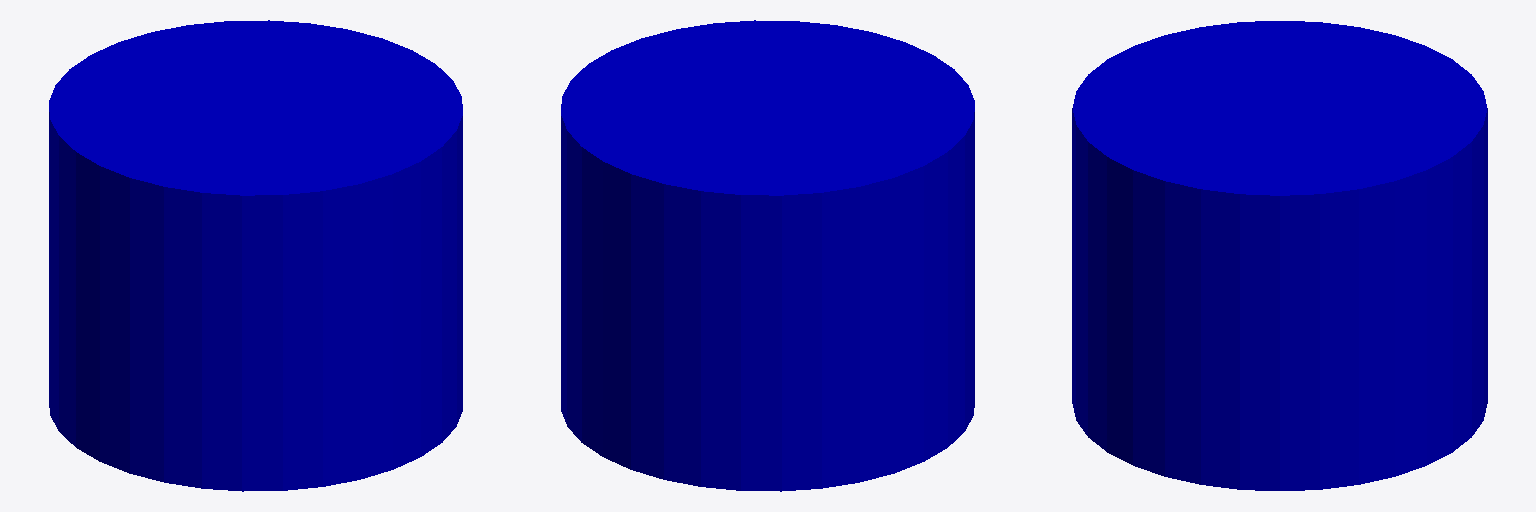
The robot description file, URDF, robot "schunk_lwa4p":
<?xml version="1.0" ?>
<!-- =================================================================================== -->
<!-- |    This document was autogenerated by xacro from schunk.xacro                   | -->
<!-- |    EDITING THIS FILE BY HAND IS NOT RECOMMENDED                                 | -->
<!-- =================================================================================== -->
<robot name="schunk_lwa4p">
  <material name="LightGrey">
    <color rgba="0.7 0.7 0.7 1.0"/>
  </material>
  <material name="DarkGrey">
    <color rgba="0.4 0.4 0.4 1.0"/>
  </material>
  <material name="Black">
    <color rgba="0.0 0.0 0.0 1.0"/>
  </material>
  <material name="DarkGolden">
    <color rgba="0.4 0.4 0.3 1.0"/>
  </material>
  <material name="Blue">
    <color rgba="0.0 0.0 0.8 1.0"/>
  </material>
  <link name="world"/>
  <!-- joint between base_link and lwa4p_extended_connector_link -->
  <joint name="arm_podest_joint" type="fixed">
    <origin rpy="0 0 0" xyz="0 0 0.052"/>
    <parent link="world"/>
    <child link="arm_podest_link"/>
  </joint>
  <link name="arm_podest_link">
    <inertial>
      <mass value="0.01"/>
      <origin xyz="0 0 0"/>
      <inertia ixx="0.001" ixy="0.0" ixz="0.0" iyy="0.001" iyz="0.0" izz="0.001"/>
    </inertial>
    <visual>
      <origin rpy="0 3.141592653589793 0" xyz="0 0 0"/>
      <geometry>
        <mesh filename="package://schunk/meshes/arm_base_link.stl"/>
      </geometry>
    </visual>
    <collision>
      <origin rpy="0 3.141592653589793 0" xyz="0 0 0"/>
      <geometry>
        <mesh filename="package://schunk/meshes/arm_base_link.stl"/>
      </geometry>
    </collision>
  </link>
  <joint name="arm_base_joint" type="fixed">
    <origin rpy="0 0 0" xyz="0 0 0.10"/>
    <parent link="arm_podest_link"/>
    <child link="arm_base_link"/>
  </joint>
  <link name="arm_base_link">
    <inertial>
      <mass value="0.01"/>
      <origin xyz="0 0 0"/>
      <inertia ixx="0.001" ixy="0.0" ixz="0.0" iyy="0.001" iyz="0.0" izz="0.001"/>
    </inertial>
  </link>
  <!-- joint between arm_0_link and arm_1_link -->
  <joint name="arm_1_joint" type="revolute">
    <origin rpy="0 0 3.141592653589793" xyz="0 0 0"/>
    <parent link="arm_base_link"/>
    <child link="arm_1_link"/>
    <axis xyz="0 0 1"/>
    <limit effort="370" lower="-2.947" upper="2.947" velocity="1.26"/>
    <!--safety_controller k_position="20" k_velocity="50" soft_lower_limit="${-6.28 + 0.01}" soft_upper_limit="${6.28 - 0.01}" /-->
  </joint>
  <link name="arm_1_link">
    <!--<xacro:default_inertial/>-->
    <inertial>
      <origin rpy="0 0 0" xyz="0 0 0"/>
      <mass value="0.29364"/>
      <inertia ixx="0.01" ixy="0" ixz="0" iyy="0.01" iyz="0" izz="0.01"/>
    </inertial>
    <visual>
      <origin rpy="0 0 0" xyz="0 0 0"/>
      <geometry>
        <mesh filename="package://schunk/meshes/arm_1_link.stl"/>
      </geometry>
      <material name="Blue"/>
    </visual>
    <collision>
      <origin rpy="0 0 0" xyz="0 0 0"/>
      <geometry>
        <mesh filename="package://schunk/meshes/arm_1_link.stl"/>
      </geometry>
    </collision>
  </link>
  <!-- joint between arm_1_link and arm_2_link -->
  <joint name="arm_2_joint" type="revolute">
    <origin rpy="1.5708 0 0" xyz="0 0 0"/>
    <parent link="arm_1_link"/>
    <child link="arm_2_link"/>
    <axis xyz="0 0 1"/>
    <limit effort="370" lower="-2.947" upper="2.947" velocity="1.26"/>
    <!--safety_controller k_position="20" k_velocity="50" soft_lower_limit="${-2.09 + 0.01}" soft_upper_limit="${2.09 - 0.01}" /-->
  </joint>
  <link name="arm_2_link">
    <inertial>
      <origin rpy="0 0 0" xyz="0 0 0"/>
      <mass value="1.68311"/>
      <inertia ixx="0.03" ixy="0" ixz="0" iyy="0.03" iyz="0" izz="0.03"/>
    </inertial>
    <visual>
      <origin rpy="0 0 0" xyz="0 0 0"/>
      <geometry>
        <mesh filename="package://schunk/meshes/arm_2_link.stl"/>
      </geometry>
      <material name="LightGrey"/>
    </visual>
    <collision>
      <origin rpy="0 0 0" xyz="0 0 0"/>
      <geometry>
        <mesh filename="package://schunk/meshes/arm_2_link.stl"/>
      </geometry>
    </collision>
  </link>
  <!-- joint between arm_2_link and arm_3_link -->
  <joint name="arm_3_joint" type="revolute">
    <origin rpy="0 3.14159 0" xyz="0 0.350 0"/>
    <parent link="arm_2_link"/>
    <child link="arm_3_link"/>
    <axis xyz="0 0 1"/>
    <limit effort="176" lower="-2.694" upper="2.694" velocity="1.26"/>
    <!--safety_controller k_position="20" k_velocity="25" soft_lower_limit="${-6.28 + 0.01}" soft_upper_limit="${6.28 - 0.01}" /-->
  </joint>
  <link name="arm_3_link">
    <!--<xacro:default_inertial/>-->
    <inertial>
      <origin rpy="0 0 0" xyz="0 0 0"/>
      <mass value="2.1"/>
      <inertia ixx="0.03" ixy="0" ixz="0" iyy="0.03" iyz="0" izz="0.03"/>
    </inertial>
    <visual>
      <origin rpy="0 0 0" xyz="0 0 0"/>
      <geometry>
        <mesh filename="package://schunk/meshes/arm_3_link.stl"/>
      </geometry>
      <material name="Blue"/>
    </visual>
    <collision>
      <origin rpy="0 0 0" xyz="0 0 0"/>
      <geometry>
        <mesh filename="package://schunk/meshes/arm_3_link.stl"/>
      </geometry>
    </collision>
  </link>
  <!-- joint between arm_3_link and arm_4_link -->
  <joint name="arm_4_joint" type="revolute">
    <origin rpy="-1.5708 3.14159 0" xyz="0 0 0"/>
    <parent link="arm_3_link"/>
    <child link="arm_4_link"/>
    <axis xyz="0 0 1"/>
    <limit effort="176" lower="-2.947" upper="2.947" velocity="1.26"/>
    <!--safety_controller k_position="20" k_velocity="25" soft_lower_limit="${-2.09 + 0.01}" soft_upper_limit="${2.09 - 0.01}" /-->
  </joint>
  <link name="arm_4_link">
    <!--<xacro:default_inertial/>-->
    <inertial>
      <origin rpy="0 0 0" xyz="0 0 0"/>
      <mass value="1.68311"/>
      <inertia ixx="0.03" ixy="0" ixz="0" iyy="0.03" iyz="0" izz="0.03"/>
    </inertial>
    <visual>
      <origin rpy="0 0 0" xyz="0 0 0"/>
      <geometry>
        <mesh filename="package://schunk/meshes/arm_4_link.stl"/>
      </geometry>
      <material name="LightGrey"/>
    </visual>
    <collision>
      <origin rpy="0 0 0" xyz="0 0 0"/>
      <geometry>
        <mesh filename="package://schunk/meshes/arm_4_link.stl"/>
      </geometry>
    </collision>
  </link>
  <!-- joint between arm_4_link and arm_5_link -->
  <joint name="arm_5_joint" type="revolute">
    <origin rpy="1.5708 0 3.14159" xyz="0 0.005263 0.305"/>
    <parent link="arm_4_link"/>
    <child link="arm_5_link"/>
    <axis xyz="0 0 1"/>
    <limit effort="41.6" lower="-2.947" upper="2.947" velocity="1.26"/>
    <!--safety_controller k_position="20" k_velocity="25" soft_lower_limit="${-6.28 + 0.01}" soft_upper_limit="${6.28 - 0.01}" /-->
  </joint>
  <link name="arm_5_link">
    <!--<xacro:default_inertial/>-->
    <inertial>
      <origin rpy="0 0 0" xyz="0 0 0"/>
      <mass value="0.807"/>
      <inertia ixx="0.03" ixy="0" ixz="0" iyy="0.03" iyz="0" izz="0.03"/>
    </inertial>
    <visual>
      <origin rpy="0 0 0" xyz="0 0 0"/>
      <geometry>
        <mesh filename="package://schunk/meshes/arm_5_link.stl"/>
      </geometry>
      <material name="Blue"/>
    </visual>
    <collision>
      <origin rpy="0 0 0" xyz="0 0 0"/>
      <geometry>
        <mesh filename="package://schunk/meshes/arm_5_link.stl"/>
      </geometry>
    </collision>
  </link>
  <!-- joint between arm_5_link and arm_6_link -->
  <joint name="arm_6_joint" type="revolute">
    <origin rpy="-1.5708 0 0" xyz="0 0 0"/>
    <parent link="arm_5_link"/>
    <child link="arm_6_link"/>
    <axis xyz="0 0 1"/>
    <limit effort="20.1" lower="-2.947" upper="2.947" velocity="1.26"/>
    <!--safety_controller k_position="20" k_velocity="25" soft_lower_limit="${-2.09 + 0.01}" soft_upper_limit="${2.09 - 0.01}" /-->
  </joint>
  <link name="arm_6_link">
    <!--<xacro:default_inertial/>-->
    <inertial>
      <origin rpy="0 0 0" xyz="0 0 0"/>
      <mass value="0.819"/>
      <inertia ixx="0.01" ixy="0" ixz="0" iyy="0.01" iyz="0" izz="0.01"/>
    </inertial>
    <visual>
      <origin rpy="0 0 0" xyz="0 0 0"/>
      <geometry>
        <mesh filename="package://schunk/meshes/arm_6_link.stl"/>
      </geometry>
      <material name="LightGrey"/>
    </visual>
    <collision>
      <origin rpy="0 0 0" xyz="0 0 0"/>
      <geometry>
        <mesh filename="package://schunk/meshes/arm_6_link.stl"/>
      </geometry>
    </collision>
  </link>
  <!-- joint between arm_6_link and gripper -->
  <joint name="fixed_gripper_joint" type="fixed">
    <origin rpy="0 0 0" xyz="0 0 0.16"/>
    <parent link="arm_6_link"/>
    <child link="gripper"/>
    <axis xyz="0 0 1"/>
  </joint>
  <link name="gripper">
    <inertial>
      <origin rpy="0 0 0" xyz="0 0 0"/>
      <mass value="1.0"/>
      <inertia ixx="0.01" ixy="0" ixz="0" iyy="0.01" iyz="0" izz="0.01"/>
    </inertial>
    <visual>
      <!-- Manually edited!! original value: xyz="0 0 0"-->
      <origin rpy="0 0 0" xyz="0 0 -0.01"/>
      <geometry>
        <!--Manually edited!! original value: length="0.14"-->
        <cylinder radius="0.07" length="0.11"/>
      </geometry>
      <material name="Blue"/>
    </visual>
    <collision>
      <origin rpy="0 0 0" xyz="0 0 0"/>
      <geometry>
        <!--Manually edited!! original value: length="0.14"-->
        <cylinder radius="0.07" length="0.11"/>
      </geometry>
    </collision>
  </link>
  <!-- joint between gripper and end -->
  <joint name="end_joint" type="revolute">
    <!--Manually edited!! original value: xyz="0 0 0.065"-->
    <origin rpy="0 0 0" xyz="0 0 0.035"/>
    <parent link="gripper"/>
    <child link="end"/>
    <axis xyz="0 0 1"/>
    <limit effort="20.1" lower="-2.947" upper="2.947" velocity="1.26"/>
  </joint>
  <link name="end">
    <inertial>
      <origin rpy="0 0 0" xyz="0 0 0"/>
      <mass value="0.00000001"/>
      <inertia ixx="0.000001" ixy="0" ixz="0" iyy="0.000001" iyz="0" izz="0.000001"/>
    </inertial>
    <visual>
      <origin rpy="0 0 0" xyz="0 0 0"/>
      <geometry>
        <cylinder radius="0.05" length="0.000001"/>
      </geometry>
      <material name="Blue"/>
    </visual>
    <collision>
      <origin rpy="0 0 0" xyz="0 0 0"/>
      <geometry>
        <cylinder radius="0.05" length="0.000001"/>
      </geometry>
    </collision>
  </link>
  <gazebo reference="arm_base_link">
    <gravity>true</gravity>
    <mu1>0.0</mu1>
    <mu2>0.0</mu2>
    <self_collide>false</self_collide>
    <material>Gazebo/LightGrey</material>
  </gazebo>
  <gazebo reference="arm_1_link">
    <gravity>true</gravity>
    <mu1>0.0</mu1>
    <mu2>0.0</mu2>
    <self_collide>false</self_collide>
    <material>Gazebo/Blue</material>
  </gazebo>
  <gazebo reference="arm_2_link">
    <gravity>true</gravity>
    <mu1>0.0</mu1>
    <mu2>0.0</mu2>
    <self_collide>false</self_collide>
    <material>Gazebo/LightGrey</material>
  </gazebo>
  <gazebo reference="arm_3_link">
    <gravity>true</gravity>
    <mu1>0.0</mu1>
    <mu2>0.0</mu2>
    <self_collide>false</self_collide>
    <material>Gazebo/Black</material>
  </gazebo>
  <gazebo reference="arm_4_link">
    <gravity>true</gravity>
    <mu1>0.0</mu1>
    <mu2>0.0</mu2>
    <self_collide>false</self_collide>
    <material>Gazebo/LightGrey</material>
  </gazebo>
  <gazebo reference="arm_5_link">
    <gravity>true</gravity>
    <mu1>0.0</mu1>
    <mu2>0.0</mu2>
    <self_collide>false</self_collide>
    <material>Gazebo/Black</material>
  </gazebo>
  <gazebo reference="arm_6_link">
    <gravity>true</gravity>
    <mu1>0.0</mu1>
    <mu2>0.0</mu2>
    <self_collide>false</self_collide>
    <material>Gazebo/LightGrey</material>
  </gazebo>
  <gazebo reference="arm_7_link">
    <gravity>true</gravity>
    <mu1>0.0</mu1>
    <mu2>0.0</mu2>
    <self_collide>false</self_collide>
    <material>Gazebo/Black</material>
  </gazebo>
  <transmission name="arm_1_trans">
    <type>transmission_interface/SimpleTransmission</type>
    <joint name="arm_1_joint">
      <hardwareInterface>hardware_interface/EffortJointInterface</hardwareInterface>
    </joint>
    <actuator name="arm_1_motor">
      <hardwareInterface>EffortJointInterface</hardwareInterface>
      <mechanicalReduction>1</mechanicalReduction>
    </actuator>
  </transmission>
  <transmission name="arm_2_trans">
    <type>transmission_interface/SimpleTransmission</type>
    <joint name="arm_2_joint">
      <hardwareInterface>hardware_interface/EffortJointInterface</hardwareInterface>
    </joint>
    <actuator name="arm_2_motor">
      <hardwareInterface>EffortJointInterface</hardwareInterface>
      <mechanicalReduction>1</mechanicalReduction>
    </actuator>
  </transmission>
  <transmission name="arm_3_trans">
    <type>transmission_interface/SimpleTransmission</type>
    <joint name="arm_3_joint">
      <hardwareInterface>hardware_interface/EffortJointInterface</hardwareInterface>
    </joint>
    <actuator name="arm_3_motor">
      <hardwareInterface>EffortJointInterface</hardwareInterface>
      <mechanicalReduction>1</mechanicalReduction>
    </actuator>
  </transmission>
  <transmission name="arm_4_trans">
    <type>transmission_interface/SimpleTransmission</type>
    <joint name="arm_4_joint">
      <hardwareInterface>hardware_interface/EffortJointInterface</hardwareInterface>
    </joint>
    <actuator name="arm_4_motor">
      <hardwareInterface>EffortJointInterface</hardwareInterface>
      <mechanicalReduction>1</mechanicalReduction>
    </actuator>
  </transmission>
  <transmission name="arm_5_trans">
    <type>transmission_interface/SimpleTransmission</type>
    <joint name="arm_5_joint">
      <hardwareInterface>hardware_interface/EffortJointInterface</hardwareInterface>
    </joint>
    <actuator name="arm_5_motor">
      <hardwareInterface>EffortJointInterface</hardwareInterface>
      <mechanicalReduction>1</mechanicalReduction>
    </actuator>
  </transmission>
  <transmission name="arm_6_trans">
    <type>transmission_interface/SimpleTransmission</type>
    <joint name="arm_6_joint">
      <hardwareInterface>hardware_interface/EffortJointInterface</hardwareInterface>
    </joint>
    <actuator name="arm_6_motor">
      <hardwareInterface>EffortJointInterface</hardwareInterface>
      <mechanicalReduction>1</mechanicalReduction>
    </actuator>
  </transmission>
  <transmission name="end_trans">
    <type>transmission_interface/SimpleTransmission</type>
    <joint name="end_joint">
      <hardwareInterface>hardware_interface/EffortJointInterface</hardwareInterface>
    </joint>
    <actuator name="end_motor">
      <hardwareInterface>EffortJointInterface</hardwareInterface>
      <mechanicalReduction>1</mechanicalReduction>
    </actuator>
  </transmission>
  <!-- ros_control plugin 
    <gazebo>

      <plugin name="my_joint_plugin" filename="libJoints.so">
        <joint_topic>/traj_info</joint_topic>
        <joint_names>joint_names</joint_names>
        <default_value>q0</default_value>
      </plugin>
    </gazebo>
    -->
</robot>

--- What the picture shows (computed from the rendered views, not written in the file) ---
3 views of the same robot in one strip: view 1: azimuth 30°, elevation 25°; view 2: azimuth 150°, elevation 25°; view 3: azimuth 270°, elevation 25° (orthographic).
Robot: schunk_lwa4p — 11 links, 10 joints (7 revolute, 3 fixed); root link world; default pose: all joints at 0.
Visible links, largest first — view 1: gripper; view 2: gripper; view 3: gripper.
Boxes of the visible links, <box> form: gripper: <box>49,20,462,491</box>; gripper: <box>561,20,974,491</box>; gripper: <box>1072,21,1487,490</box>.
Size in the robot's own frame: 0.14 by 0.14 by 0.11 metres.
0 mesh visuals loaded from 7 distinct referenced files (none loaded); not drawn: 7 (reference not matched to a file when rendering).